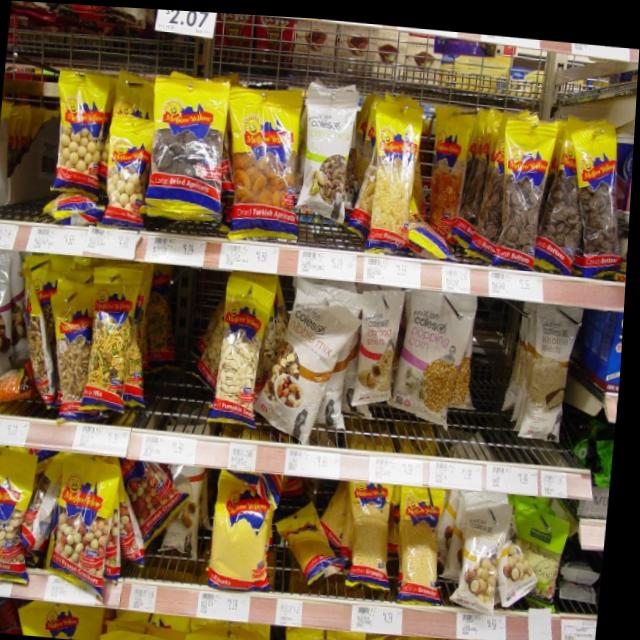q88: (55, 444, 132, 585)
